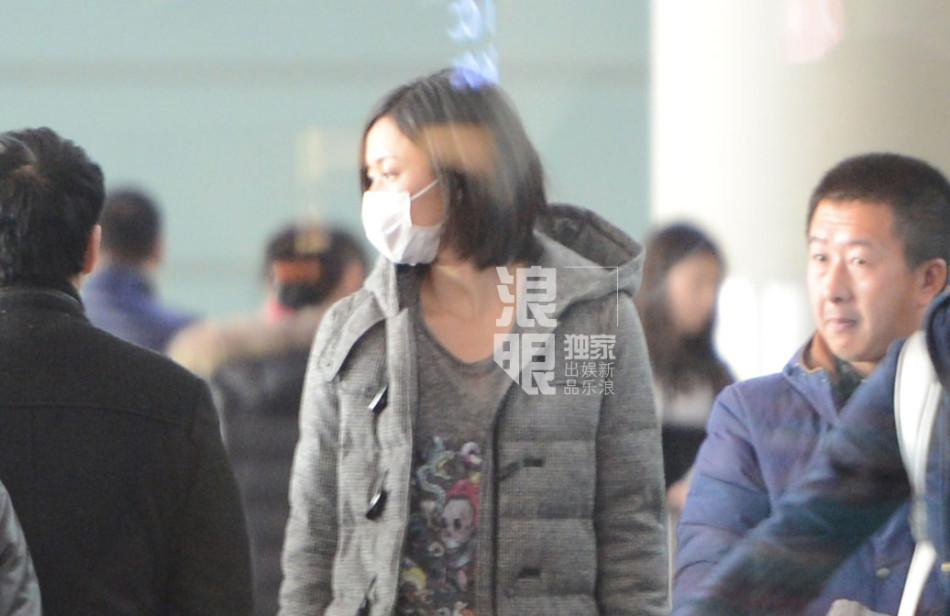NONE: (803, 234, 908, 354)
OK: (356, 147, 466, 270)
